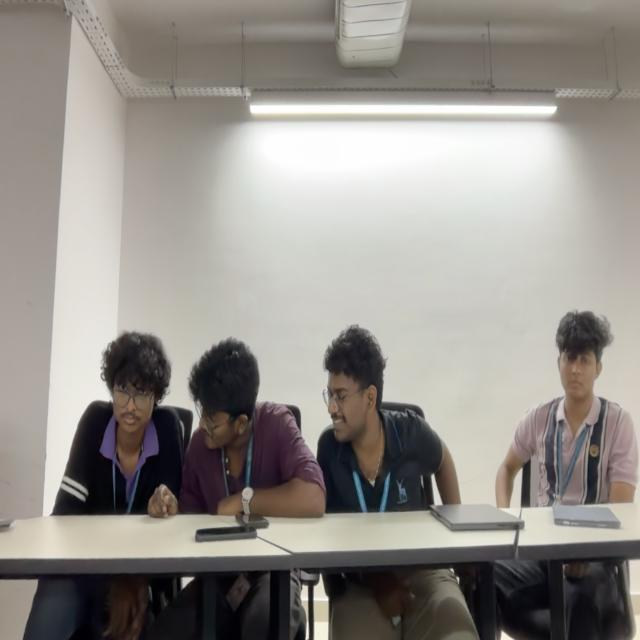Isolated: (494, 307, 637, 503)
socializing: (56, 325, 462, 510)
